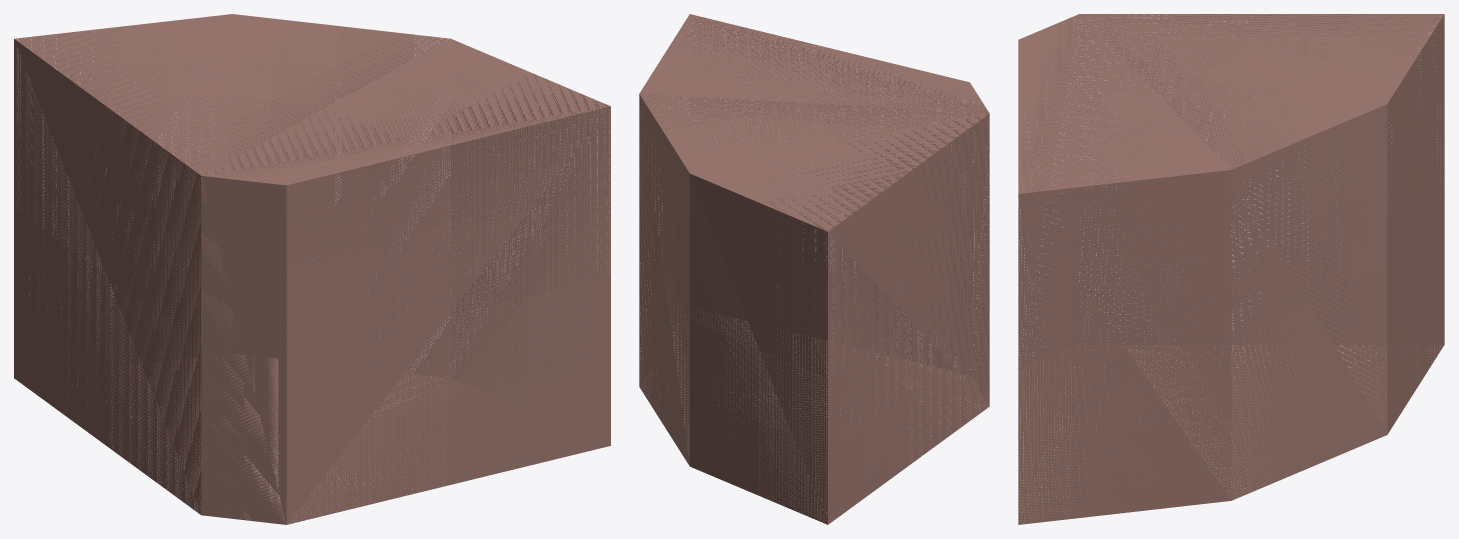
Rendered from SW_ENV_PipeCrnrSmall_Collision.fbx.
The picture shows the model from 3 angles, left to right: view 1: azimuth 30°, elevation 25°; view 2: azimuth 150°, elevation 25°; view 3: azimuth 270°, elevation 25°; orthographic projection. The views are drawn at different scales.
Parts seen in each view (by area): view 1: SW_ENV_PipeCrnrSmall_Collision; view 2: SW_ENV_PipeCrnrSmall_Collision; view 3: SW_ENV_PipeCrnrSmall_Collision.
Boxes of the visible parts, bbox=[...] form: SW_ENV_PipeCrnrSmall_Collision: bbox=[14, 14, 610, 524]; SW_ENV_PipeCrnrSmall_Collision: bbox=[639, 14, 989, 524]; SW_ENV_PipeCrnrSmall_Collision: bbox=[1018, 14, 1444, 524].
Bounding box in the file's own units: 17.5 × 15 × 17.5.
